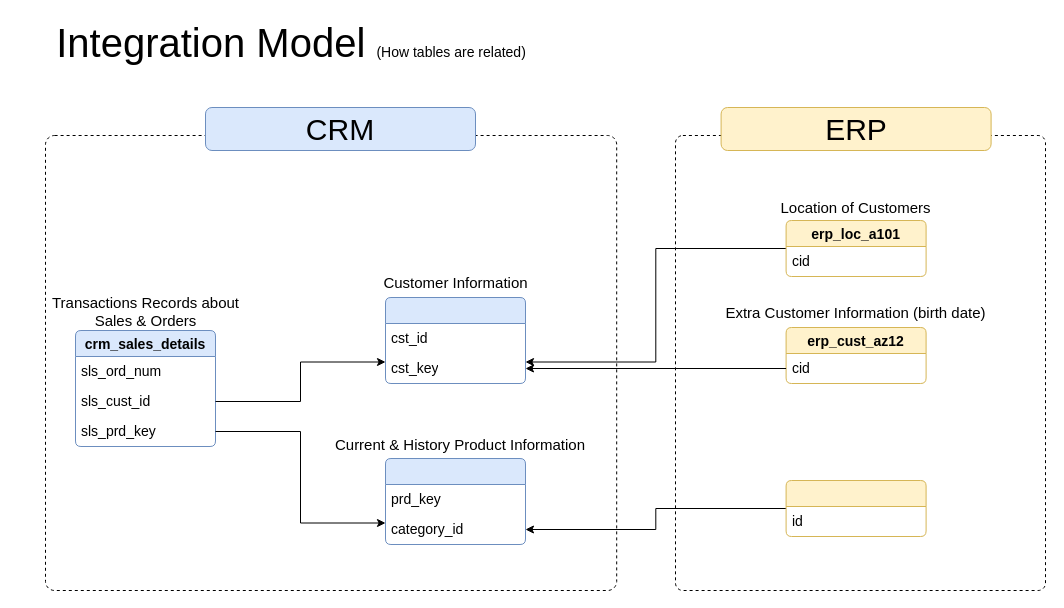
Some shapes in this 1064 by 608 pixel diagram are drawn without their labels. The box of each missing label's shape, as (x1, y1, x2, y2) in pixels:
crm_cust_info: (384, 296, 526, 384)
crm_prd_info: (384, 458, 526, 544)
erp_px_cat_g1v2: (785, 480, 926, 536)
